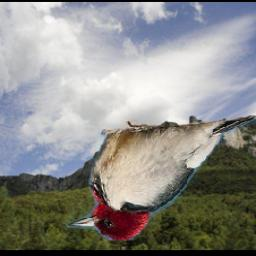Woodpecker: (67, 116, 256, 241)
